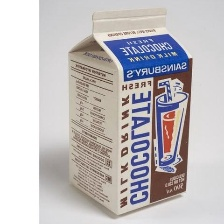carton: (54, 5, 197, 219)
